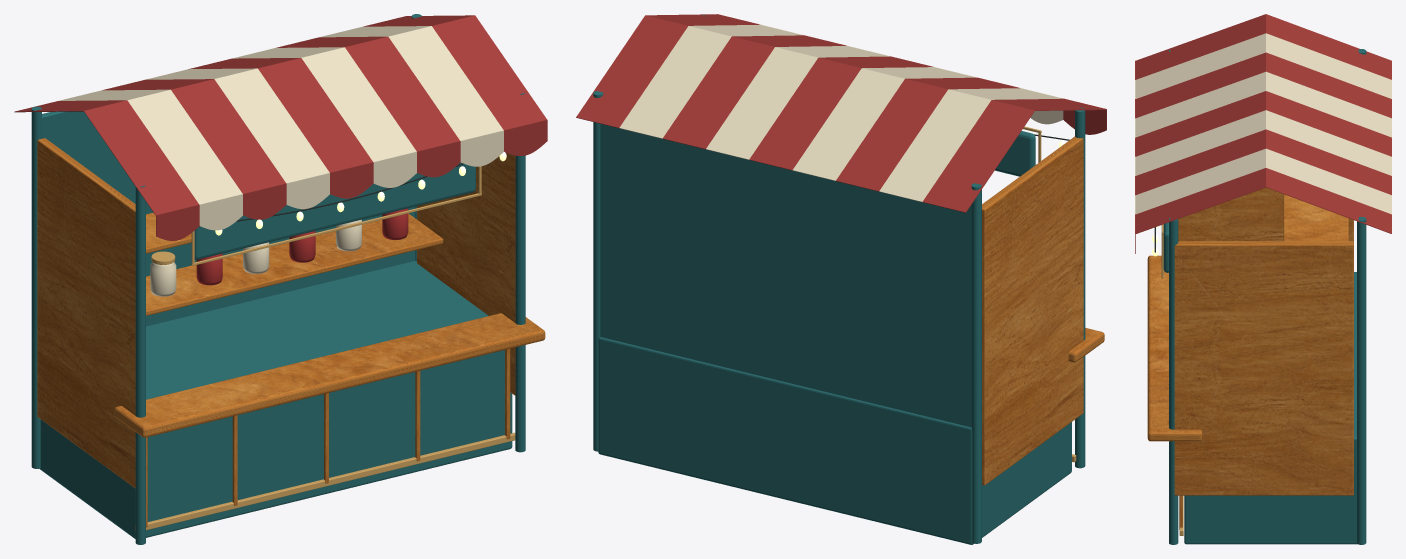
Rendered from MarketStall.fbx.
The picture shows the model from 3 angles, left to right: view 1: azimuth 30°, elevation 25°; view 2: azimuth 150°, elevation 25°; view 3: azimuth 270°, elevation 25°; orthographic projection. The views are drawn at different scales.
Visible parts, largest first — view 1: MarketStall_Body; view 2: MarketStall_Body; view 3: MarketStall_Body.
Part boxes in pixels (x1,y1,x2,y2): MarketStall_Body: (14, 14, 547, 544); MarketStall_Body: (576, 14, 1106, 544); MarketStall_Body: (1135, 14, 1391, 544).
Size of the model in its own units: 2.78 by 2.63 by 1.69.
